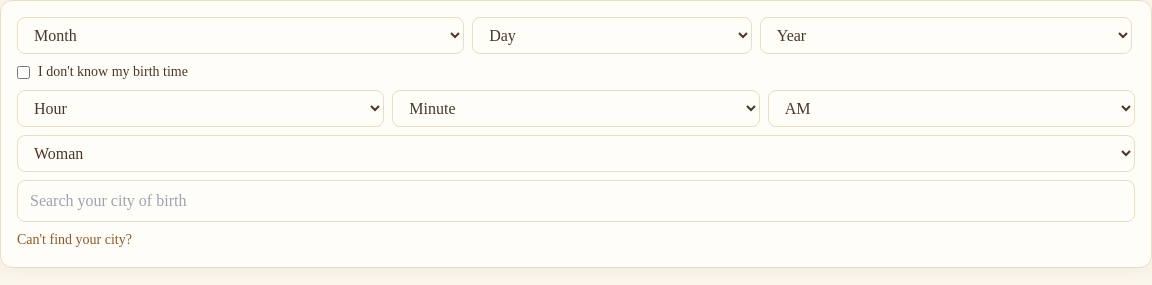
SingleBirthForm › offers a "Can't find your city?" fallback to a country/timezone picker
The width and height of the screenshot is (1152, 285).
Expected: the field named "Birthplace" is shown, [17,180,1135,222]
What coordinates should you click on to do the following:
click the button "Can't find your city?"
I would click on:
 (74, 240)
Its box is [17,230,132,250].
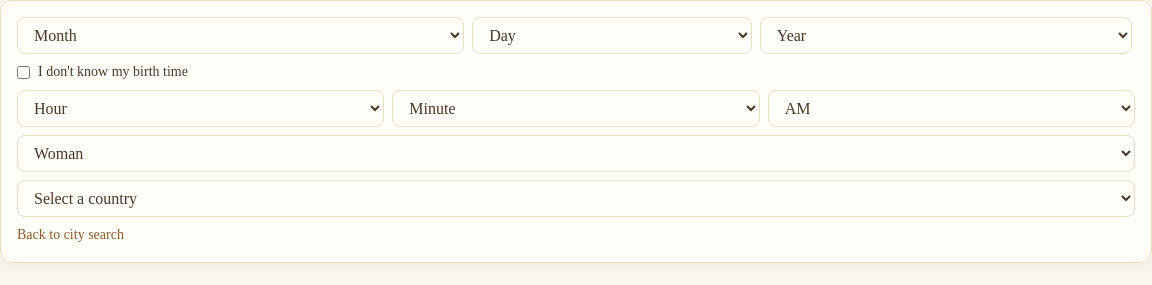
Now the dropdown named "Country" is shown, box [17,180,1135,217]
